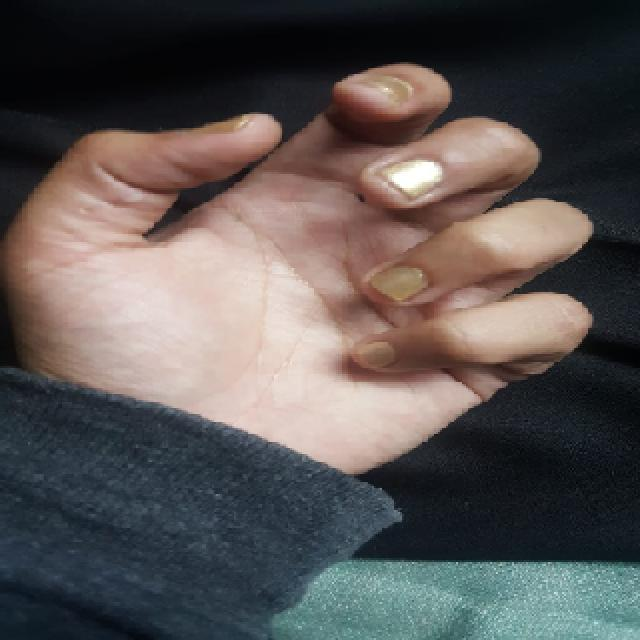Nail: (380, 159, 442, 199), (369, 266, 429, 301), (365, 75, 414, 103), (351, 341, 395, 370), (199, 114, 252, 134)
